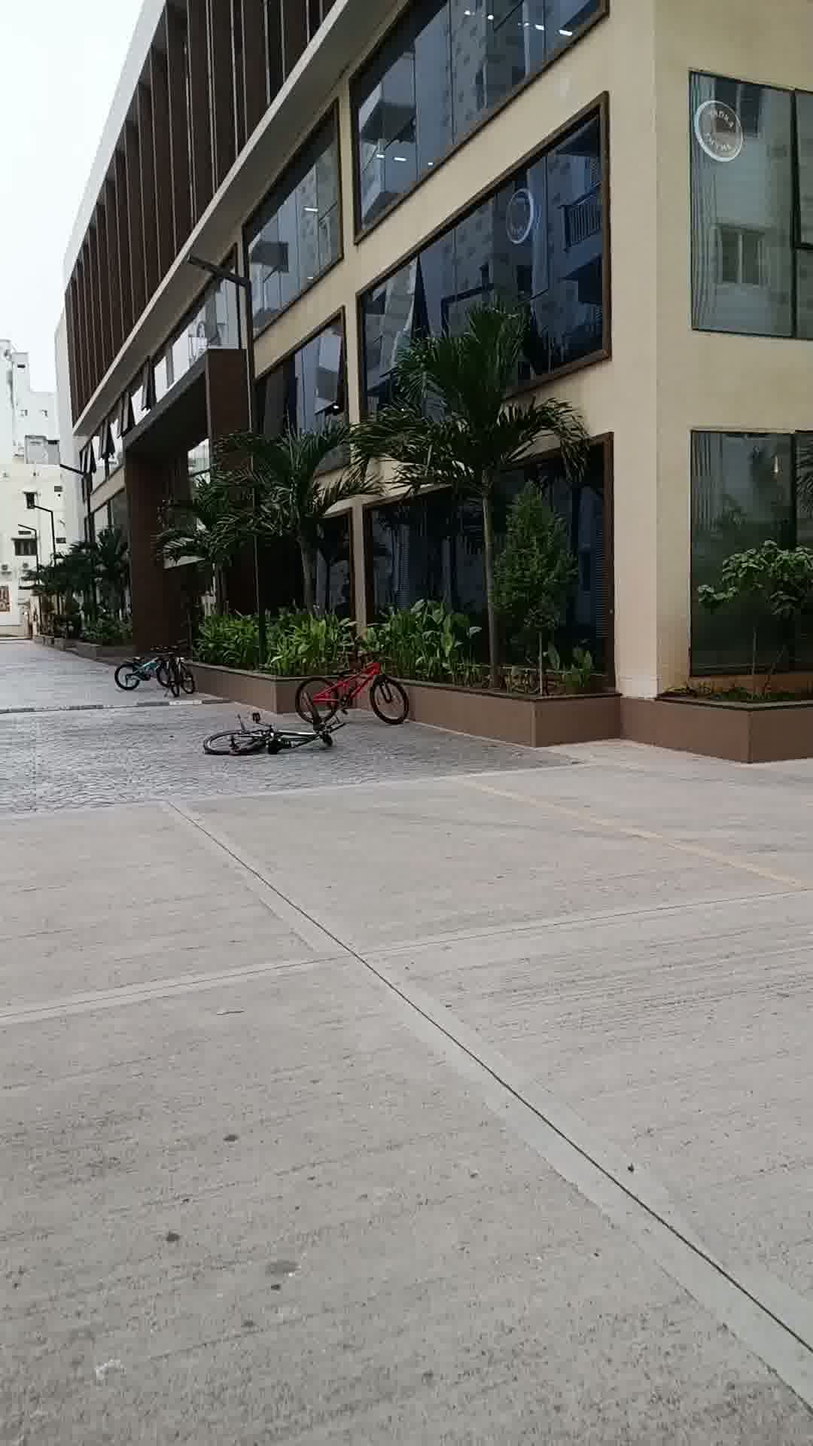bicycle: (293, 640, 417, 728), (197, 713, 349, 759), (111, 642, 199, 702)
tree: (351, 322, 602, 693), (214, 417, 374, 670), (151, 477, 253, 659), (75, 528, 138, 643)
